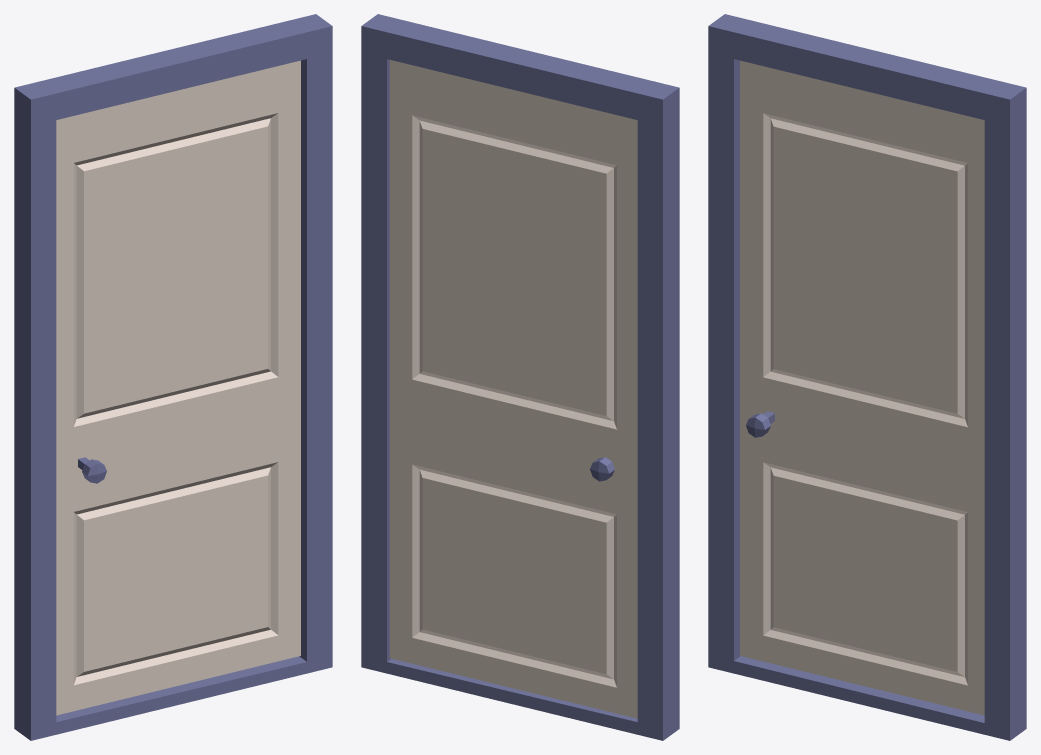
Rendered from Door_5.fbx.
The picture shows the model from 3 angles, left to right: view 1: azimuth 30°, elevation 25°; view 2: azimuth 150°, elevation 25°; view 3: azimuth 330°, elevation 25°; orthographic projection.
Parts seen in each view (by area): view 1: Door_5; view 2: Door_5; view 3: Door_5.
Boxes of the visible parts, x1,y1,x2,y2 form: Door_5: [14, 14, 332, 740]; Door_5: [361, 14, 679, 740]; Door_5: [708, 14, 1026, 740].
Size of the model in its own units: 164 by 33.02 by 334.
